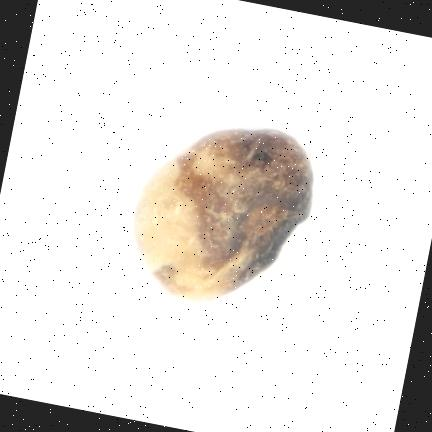partial-black: (135, 130, 313, 300)
